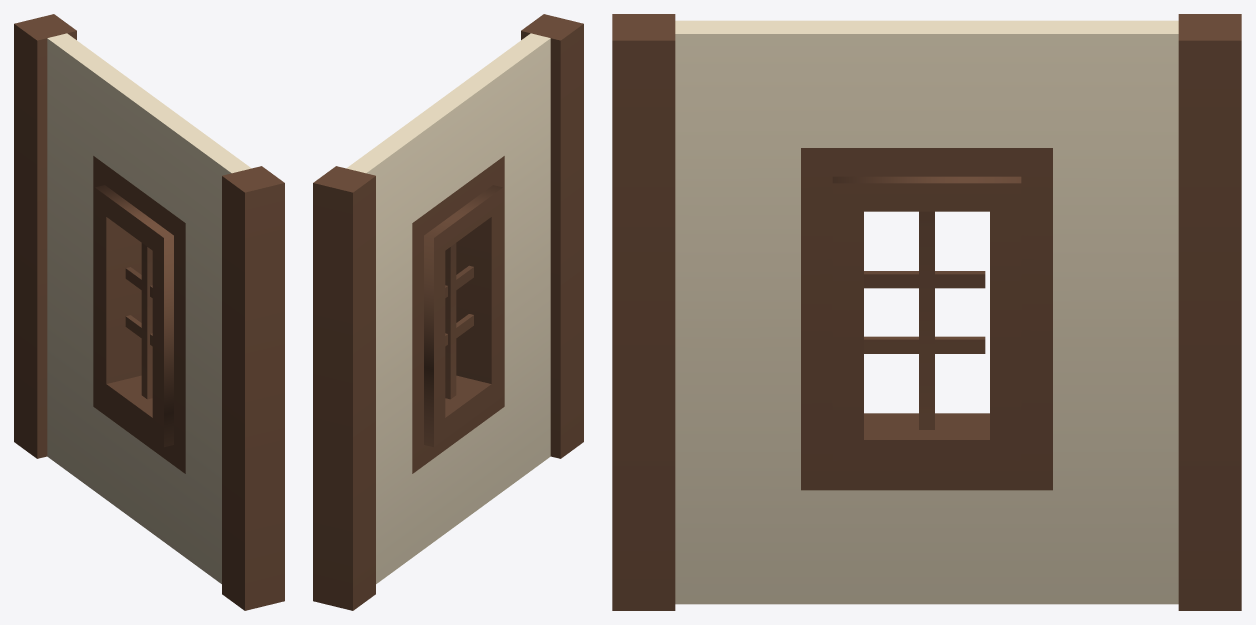
File: wall-window-glass.glb
3 views of the same model, side by side, from view 1: azimuth 30°, elevation 25°; view 2: azimuth 150°, elevation 25°; view 3: azimuth 270°, elevation 25° (orthographic). The views are drawn at different scales.
Visible parts, largest first — view 1: wall-window-glass; view 2: wall-window-glass; view 3: wall-window-glass.
Boxes of the visible parts, x1,y1,x2,y2 form: wall-window-glass: (14,14,284,610); wall-window-glass: (313,14,583,610); wall-window-glass: (612,14,1241,610).
Size of the model in its own units: 0.1 by 1 by 1.
Materials: 1 (1 with a texture image).
